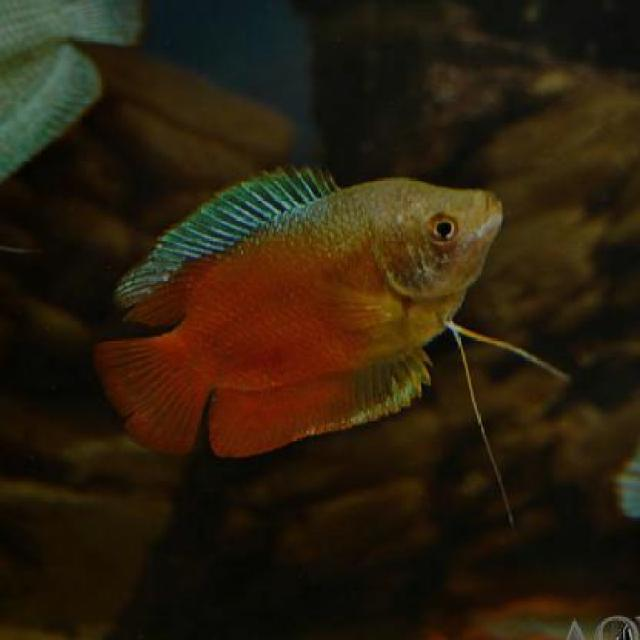Gourami: (82, 161, 509, 461)
